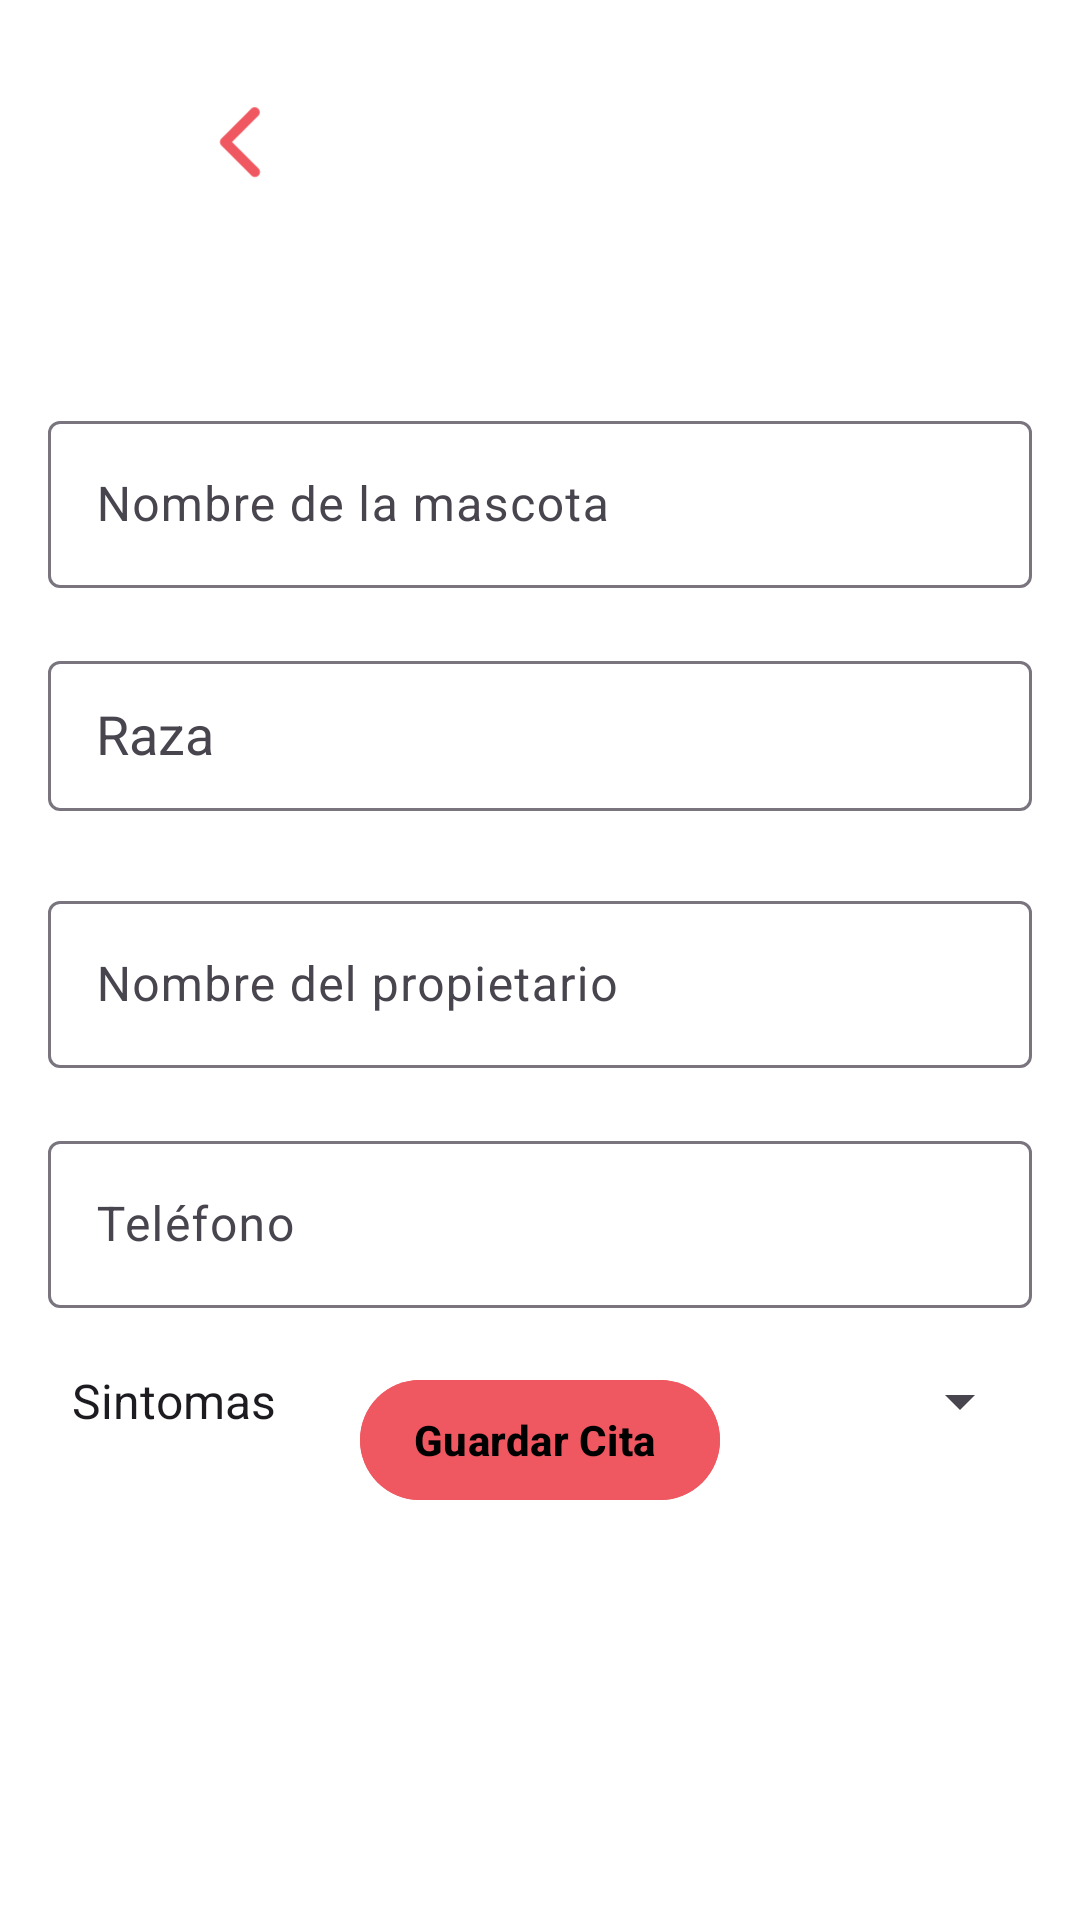

Where to tap for icons on this 1080×1920 app screen, as [x,y]:
Back: [240,142]
